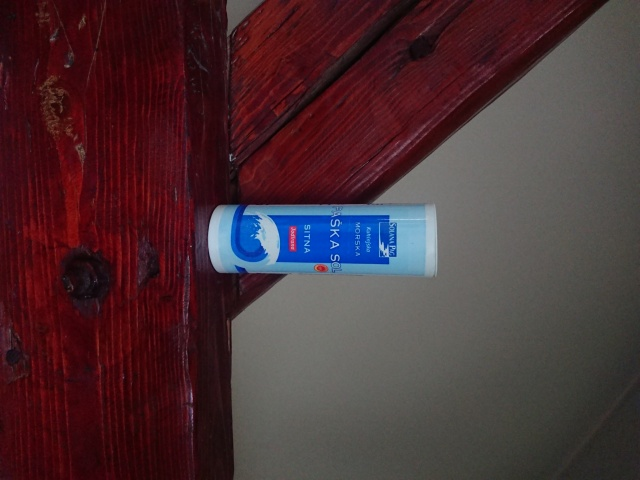Solana Pag Fine Sea Salt 250g: (204, 200, 440, 280)
